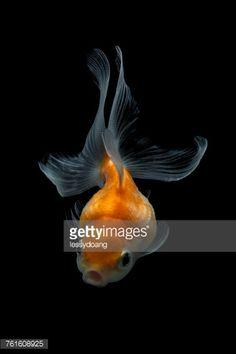goldfish: (32, 78, 209, 297)
